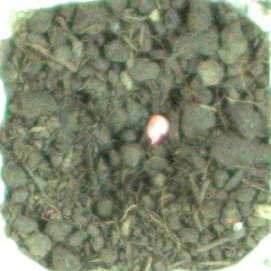pepper seed: (57, 39, 230, 186)
